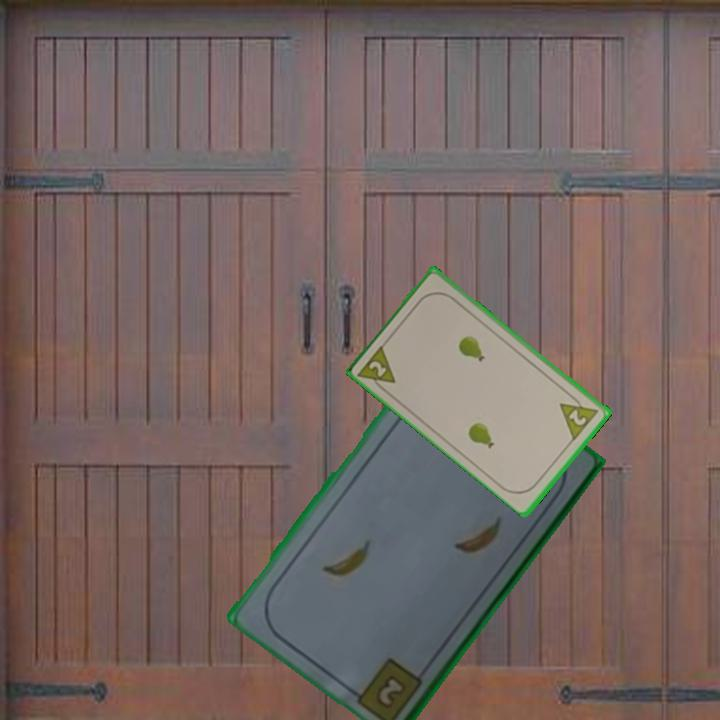2b: (375, 670, 410, 708)
2p: (556, 389, 602, 443), (355, 341, 399, 397)
